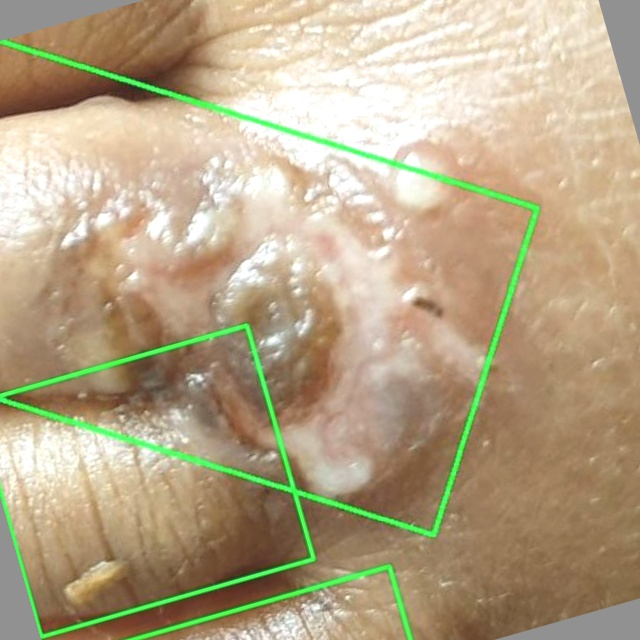Eczema: (0, 70, 536, 540), (0, 325, 313, 636)
